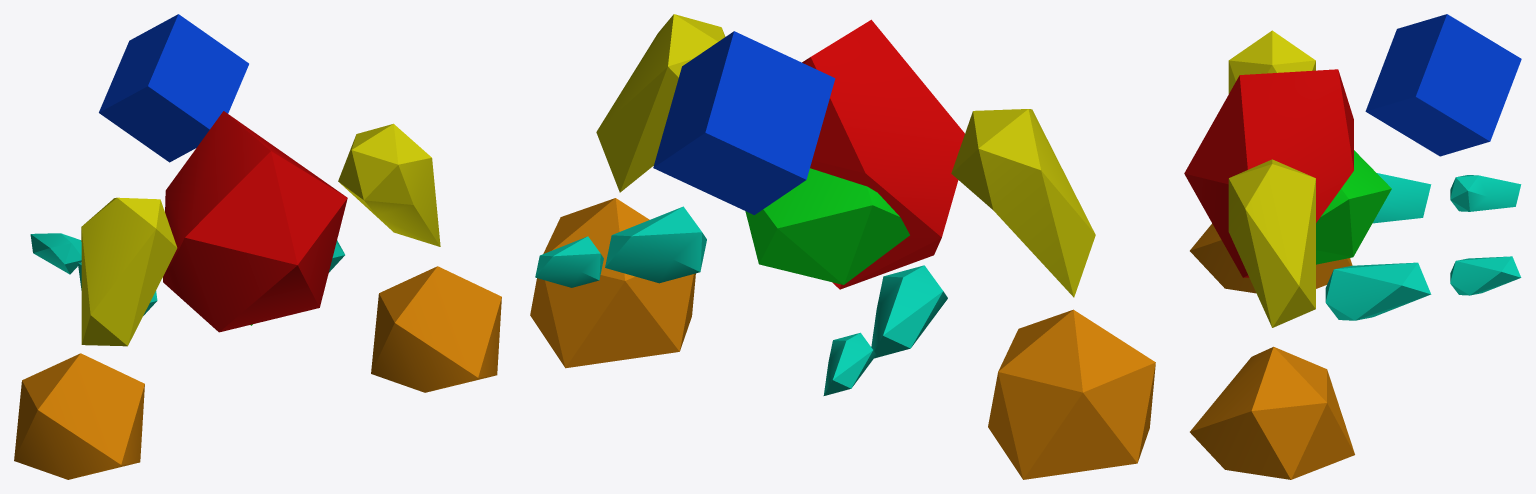
File: MiniEnemy.fbx
3 views of the same model, side by side, from view 1: azimuth 30°, elevation 25°; view 2: azimuth 150°, elevation 25°; view 3: azimuth 270°, elevation 25° (orthographic). The views are drawn at different scales.
Parts seen in each view (by area): view 1: Platonic_2, Cube_1, Platonic_7, Platonic_6, Platonic_4, Platonic_5, Platonic_11; view 2: Cube_1, Platonic_2, Platonic_7, Platonic_6, Platonic_4, Platonic_3, Platonic_5, Platonic_9, Platonic_8, Platonic_10, Platonic_11; view 3: Platonic_2, Cube_1, Platonic_6, Platonic_5, Platonic_9, Platonic_3, Platonic_4, Platonic_7, Platonic_11, Platonic_10, Platonic_8.
Part boxes in pixels (x1,y1,x2,y2): Platonic_2: (163, 111, 347, 332); Cube_1: (99, 14, 248, 162); Platonic_7: (14, 353, 144, 479); Platonic_6: (371, 266, 501, 392); Platonic_4: (81, 197, 177, 346); Platonic_5: (338, 123, 440, 246); Platonic_11: (30, 233, 81, 274); Cube_1: (653, 31, 835, 214); Platonic_2: (802, 19, 964, 289); Platonic_7: (988, 309, 1155, 479); Platonic_6: (530, 198, 695, 368); Platonic_4: (951, 109, 1095, 297); Platonic_3: (745, 168, 909, 284); Platonic_5: (596, 14, 725, 192); Platonic_9: (605, 206, 706, 283); Platonic_8: (871, 265, 947, 358); Platonic_10: (535, 236, 603, 287); Platonic_11: (823, 332, 876, 395); Platonic_2: (1184, 69, 1353, 277); Cube_1: (1365, 14, 1521, 156); Platonic_6: (1190, 346, 1354, 479); Platonic_5: (1228, 159, 1315, 327); Platonic_9: (1325, 262, 1431, 320); Platonic_3: (1316, 150, 1391, 264); Platonic_4: (1228, 30, 1315, 93); Platonic_7: (1190, 223, 1352, 293); Platonic_11: (1450, 175, 1521, 211); Platonic_10: (1450, 256, 1521, 295); Platonic_8: (1373, 173, 1431, 223).
Size of the model in its own units: 331 by 226 by 196.
